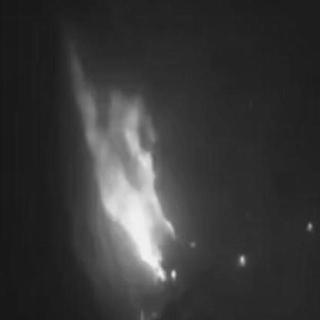Smoke: (69, 50, 181, 284)
